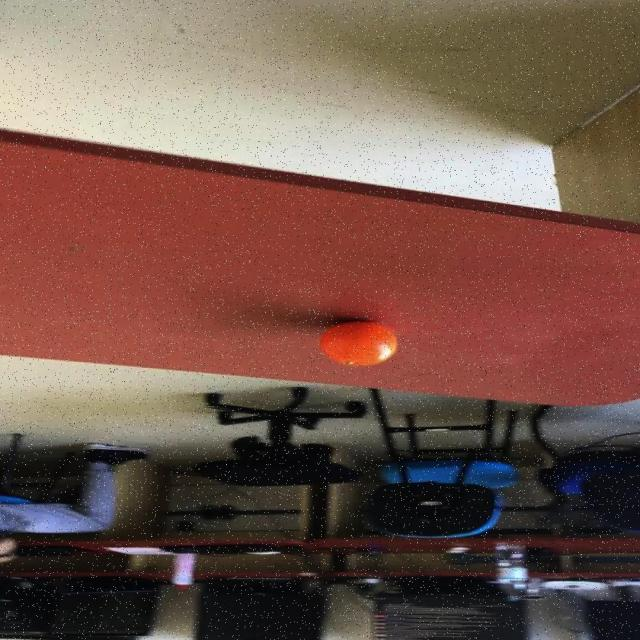Orange: (319, 320, 400, 366)
